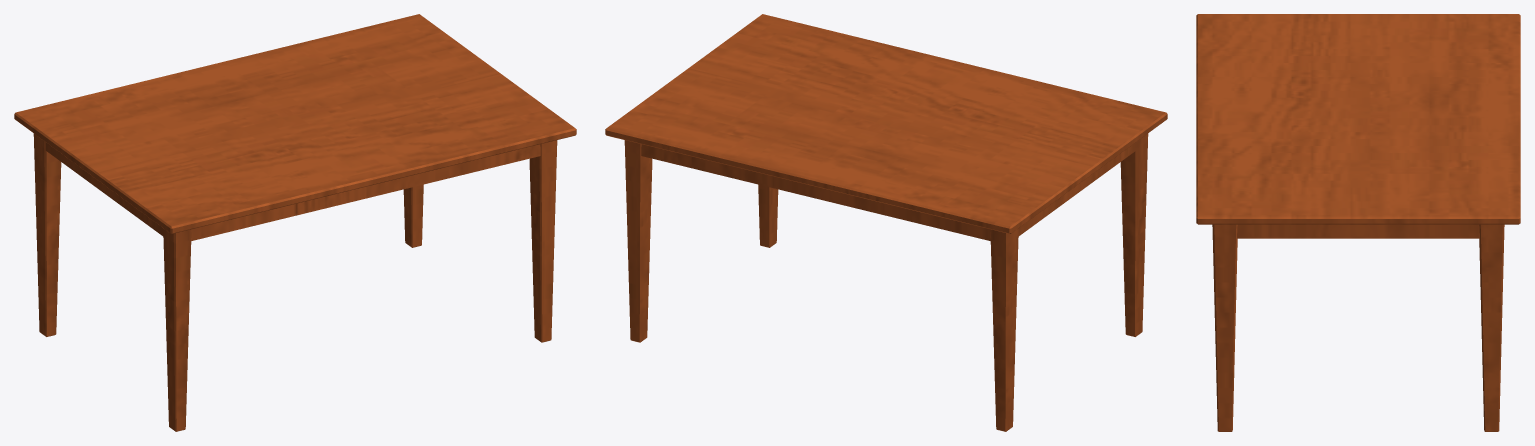
Rendered from Dining_Table_203_1.glb.
3 renders of one model, left to right at view 1: azimuth 30°, elevation 25°; view 2: azimuth 150°, elevation 25°; view 3: azimuth 270°, elevation 25°, orthographic. The views are drawn at different scales.
Parts seen in each view (by area): view 1: FP203:Cube.052; view 2: FP203:Cube.052; view 3: FP203:Cube.052.
Part boxes in pixels (x1,y1,x2,y2): FP203:Cube.052: (14,14,576,431); FP203:Cube.052: (605,14,1167,431); FP203:Cube.052: (1196,14,1520,431).
Size of the model in its own units: 1.47 by 0.7475 by 0.9882.
1 material, 1 textured.
